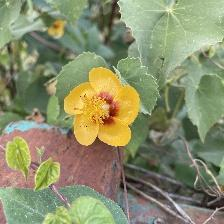indian mallow: (63, 67, 146, 150)
